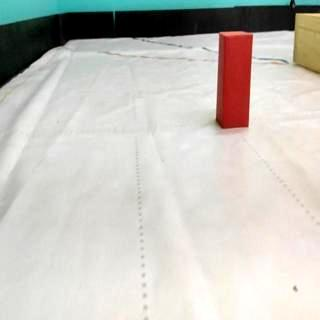redbox: (216, 30, 254, 128)
